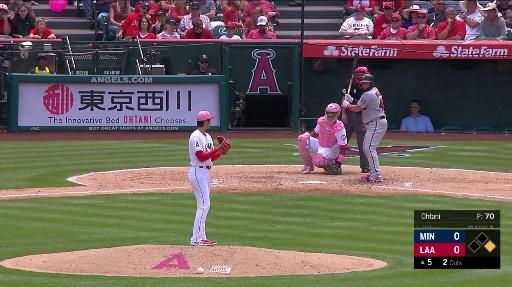pitcher: (186, 109, 233, 247)
